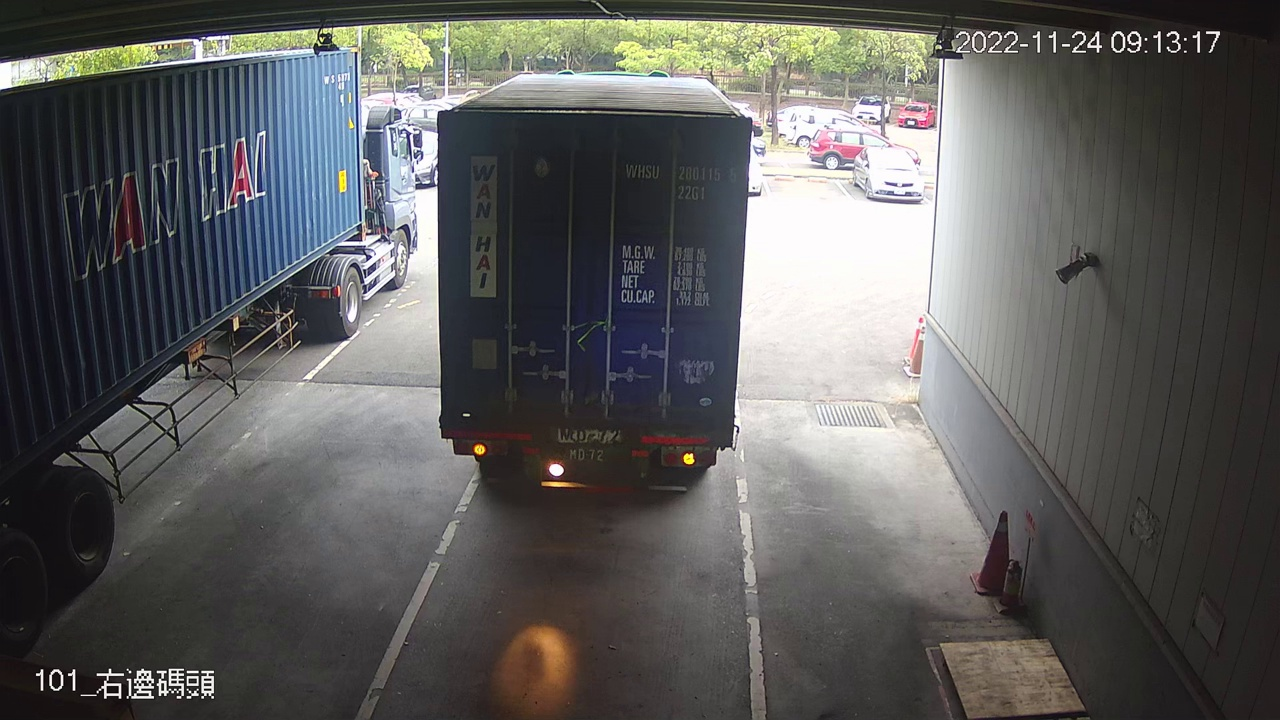container: (617, 156, 743, 205)
